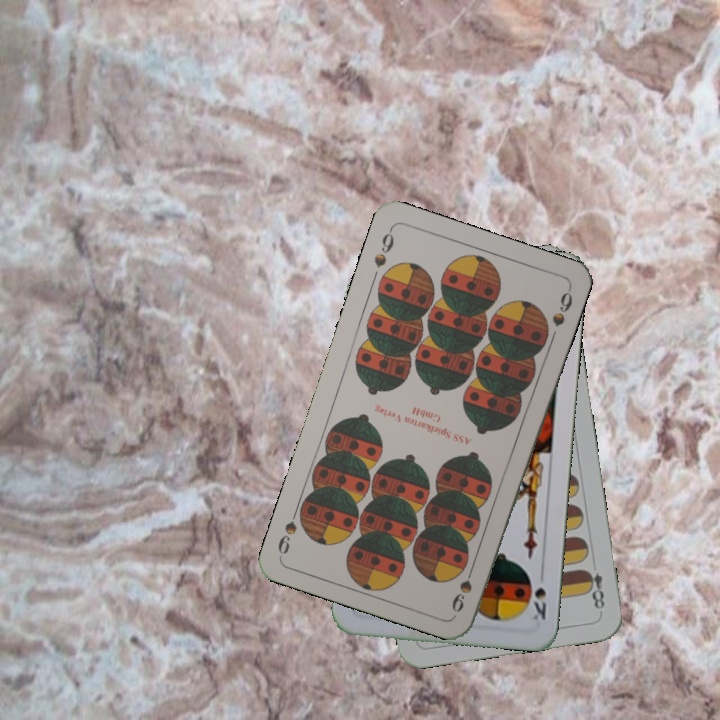E8: (580, 565, 607, 612)
S9: (447, 558, 478, 615), (370, 224, 397, 270)
SK: (528, 566, 549, 623)
